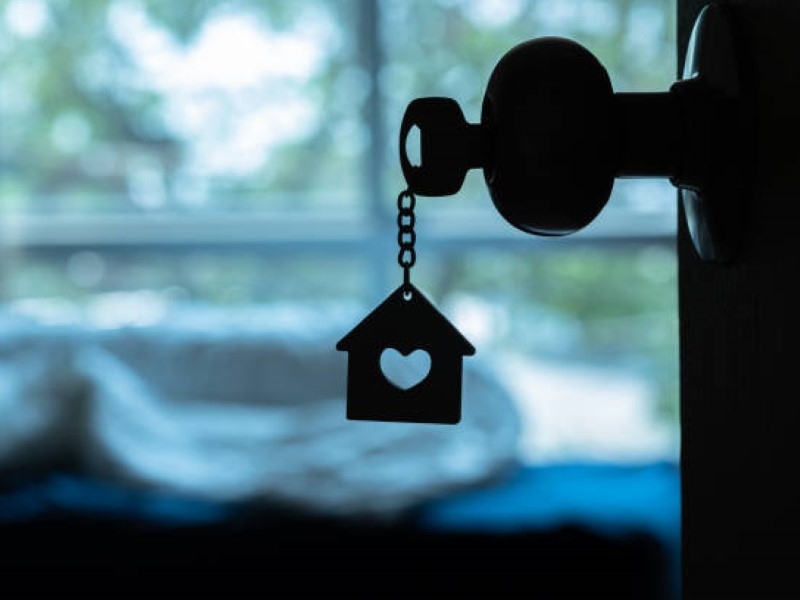key: (395, 95, 488, 204)
